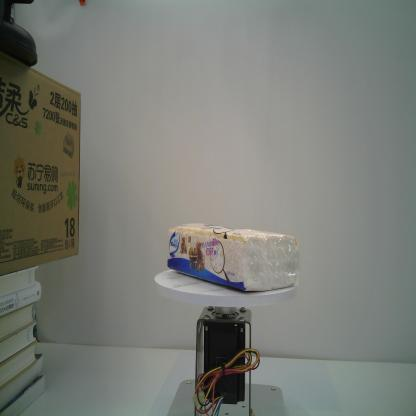Tissue: (162, 221, 302, 294)
